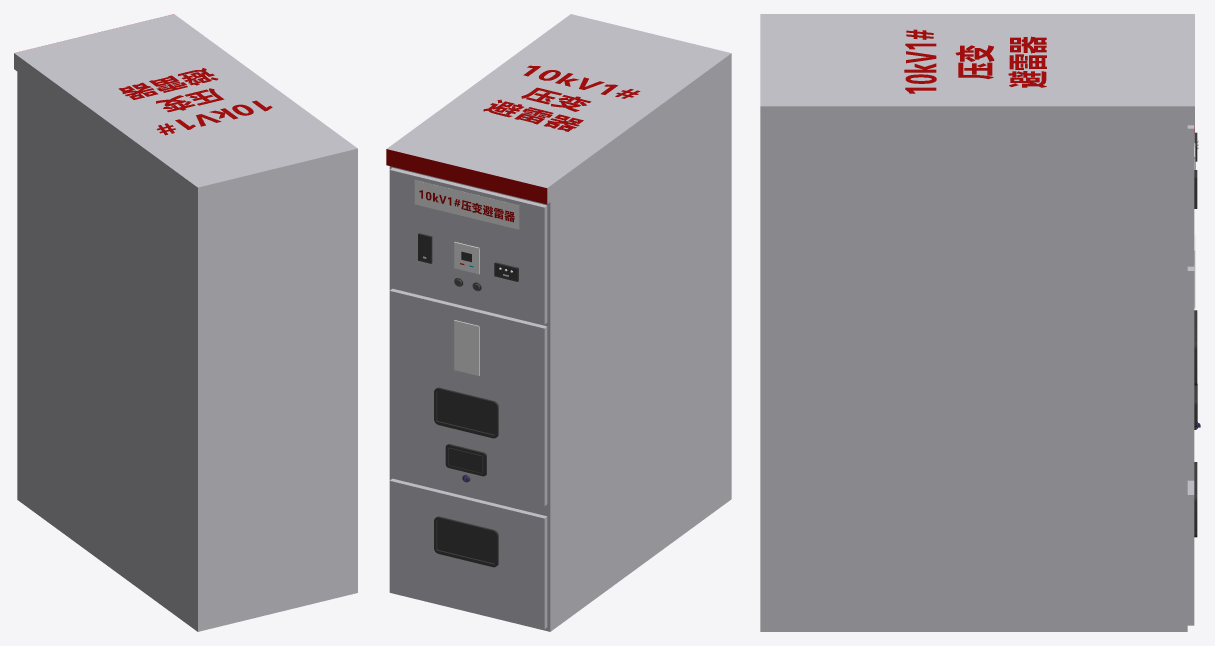
Rendered from 1-23-processed.gltf.
3 renders of one model, left to right at view 1: azimuth 30°, elevation 25°; view 2: azimuth 150°, elevation 25°; view 3: azimuth 270°, elevation 25°, orthographic. The views are drawn at different scales.
Parts seen in each view (by area): view 1: Rectangle8584, Text293; view 2: Rectangle8584, Rectangle8586, Rectangle8585, Text293, Obj3d66_1138023_124_979, Obj3d66_1138023_124_978, Rectangle8583, Obj3d66_1138023_187_646, Obj3d66_1138023_127_183, Text294, Obj3d66_1138023_187_647; view 3: Rectangle8584, Rectangle8586, Text293.
Part boxes in pixels (<box>): Rectangle8584: <box>14,14,357,631</box>; Text293: <box>118,68,272,135</box>; Rectangle8584: <box>387,14,731,631</box>; Rectangle8586: <box>389,167,547,629</box>; Rectangle8585: <box>386,149,547,204</box>; Text293: <box>483,65,640,131</box>; Obj3d66_1138023_124_979: <box>434,516,498,567</box>; Obj3d66_1138023_124_978: <box>434,387,498,438</box>; Rectangle8583: <box>414,180,519,229</box>; Obj3d66_1138023_187_646: <box>454,320,479,375</box>; Obj3d66_1138023_127_183: <box>445,444,486,476</box>; Text294: <box>419,190,514,222</box>; Obj3d66_1138023_187_647: <box>454,242,479,274</box>; Rectangle8584: <box>760,14,1194,631</box>; Rectangle8586: <box>1187,125,1194,625</box>; Text293: <box>904,29,1046,93</box>.
Size of the model in its own units: 830 by 2201 by 1671.
